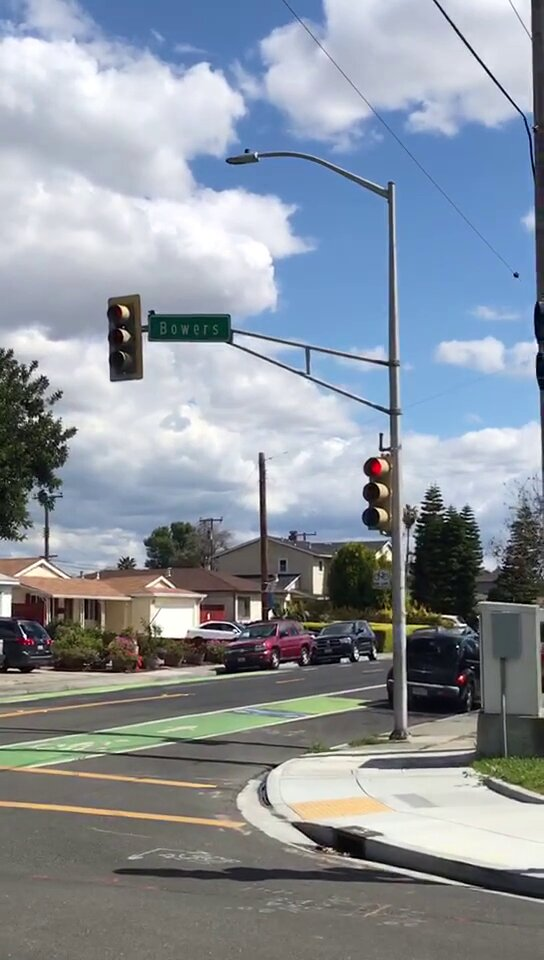red_light: (359, 457, 389, 531)
